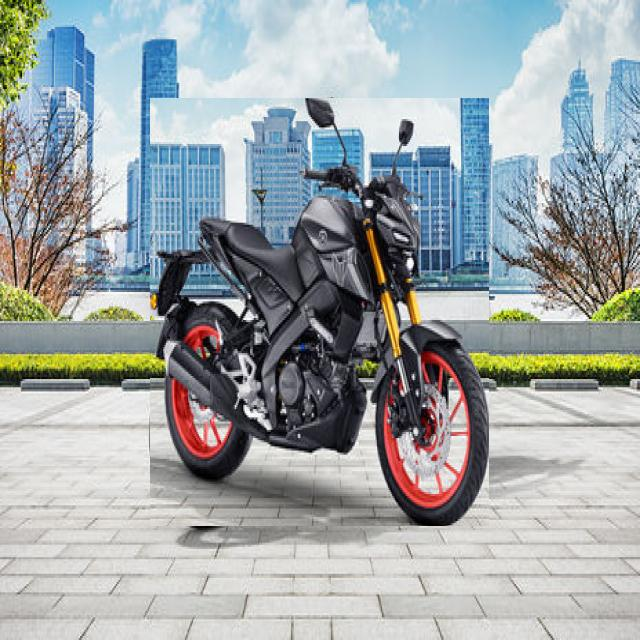motorcycle: (150, 99, 489, 526)
